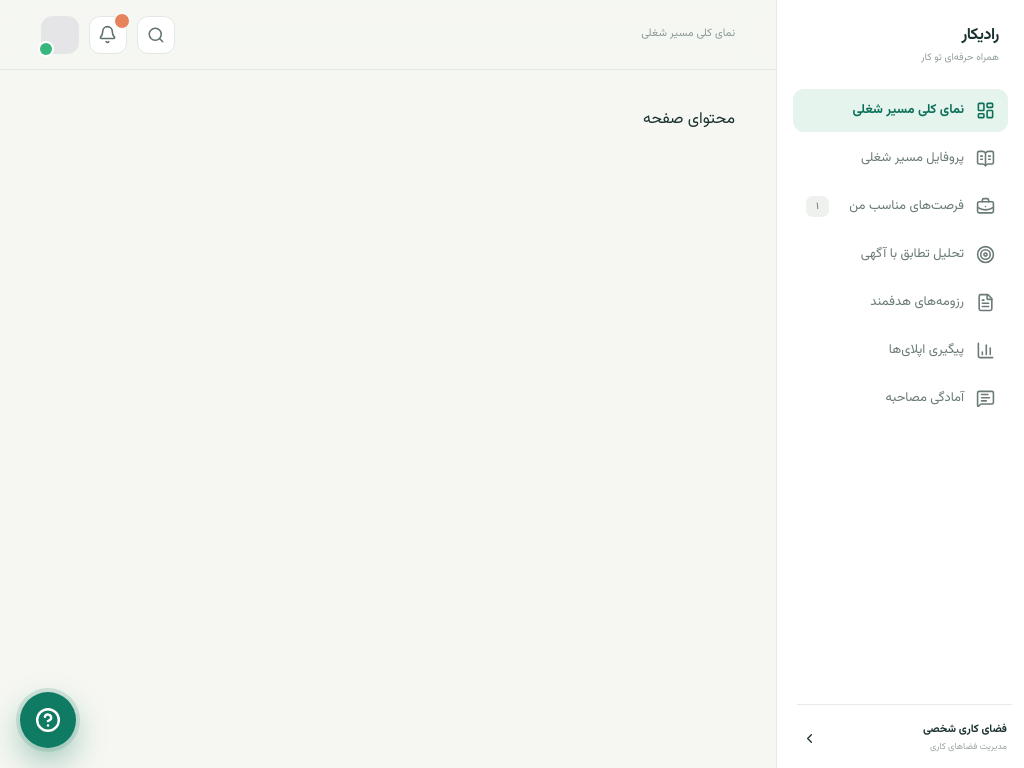
Scenario: PanelShell behavior › shows a compact clickable job notification with its match
The width and height of the screenshot is (1024, 768).
Expected: the link "فرصت‌های مناسب من ۱" is shown, x1=806 y1=196 x2=995 y2=217
Click the button named "اعلان‌ها": (108, 34) x1=89 y1=16 x2=127 y2=54
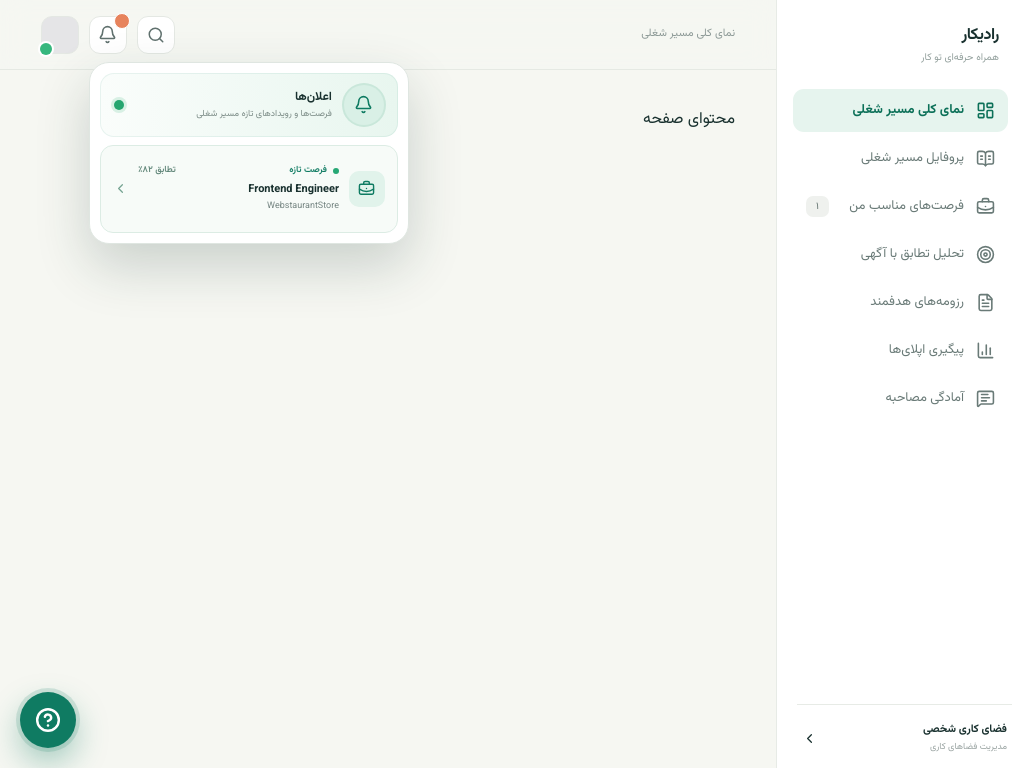
Expected: the link titled "Frontend Engineer" does not show "مشاهده فرصت‌ها", x1=100 y1=144 x2=398 y2=232
Now the link titled "Frontend Engineer" shows "تطابق ۸۲٪", box x1=100 y1=144 x2=398 y2=232
Now the link titled "Frontend Engineer" shows "WebstaurantStore", box x1=100 y1=144 x2=398 y2=232
